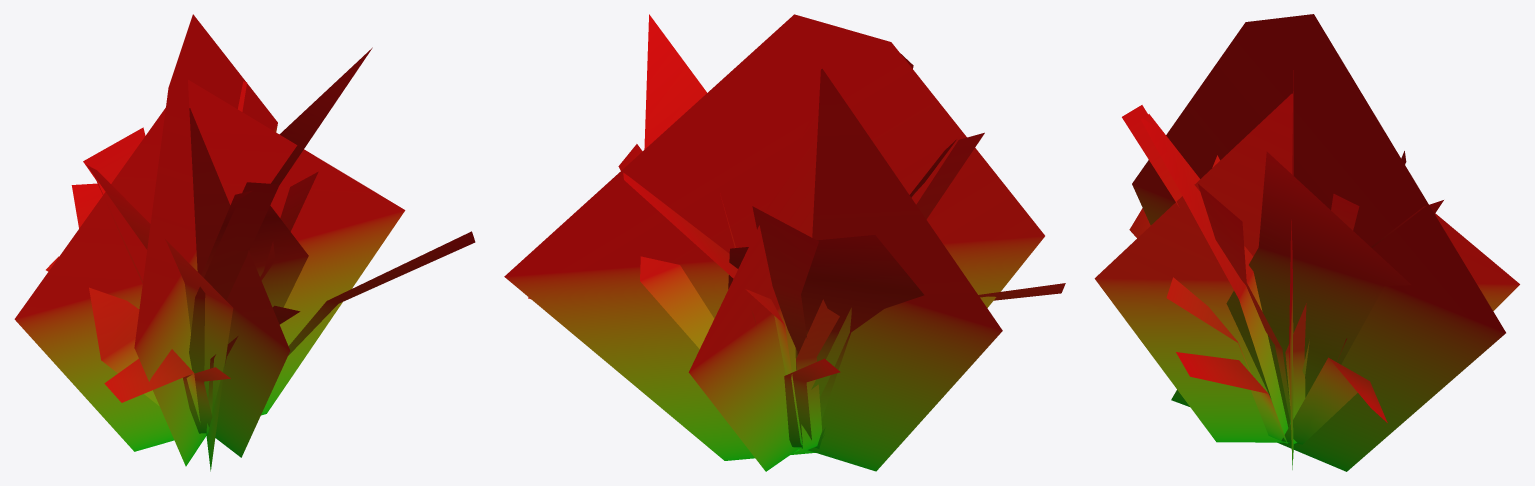
The model's file is Leafy Nineawn_LOD1_Var1_tlijciuia.fbx.
3 views of the same model, side by side, from view 1: azimuth 30°, elevation 25°; view 2: azimuth 150°, elevation 25°; view 3: azimuth 270°, elevation 25° (orthographic). The views are drawn at different scales.
Parts seen in each view (by area): view 1: _f56d_Var1_LOD1; view 2: _f56d_Var1_LOD1; view 3: _f56d_Var1_LOD1.
Part boxes in pixels (<box>): _f56d_Var1_LOD1: <box>14,14,475,471</box>; _f56d_Var1_LOD1: <box>504,14,1065,471</box>; _f56d_Var1_LOD1: <box>1094,14,1519,471</box>.
Size of the model in its own units: 16.25 by 15.84 by 14.06.
